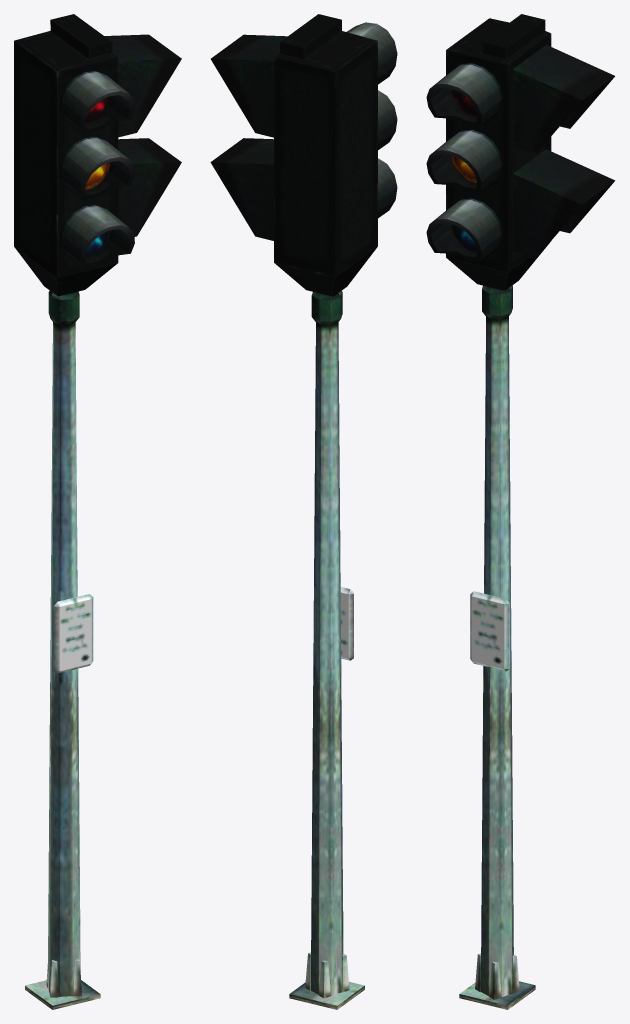
Rendered from traffic_light.01.with_walking_signs.lod1.obj.
3 renders of one model, left to right at view 1: azimuth 30°, elevation 25°; view 2: azimuth 150°, elevation 25°; view 3: azimuth 330°, elevation 25°, orthographic.
Visible parts, largest first — view 1: semaforo; view 2: semaforo; view 3: semaforo.
Part boxes in pixels (bbox=[...]): semaforo: bbox=[14, 14, 181, 1009]; semaforo: bbox=[210, 14, 397, 1009]; semaforo: bbox=[426, 14, 615, 1009].
Size of the model in its own units: 320 by 2259 by 293.
1 material, 1 textured.
